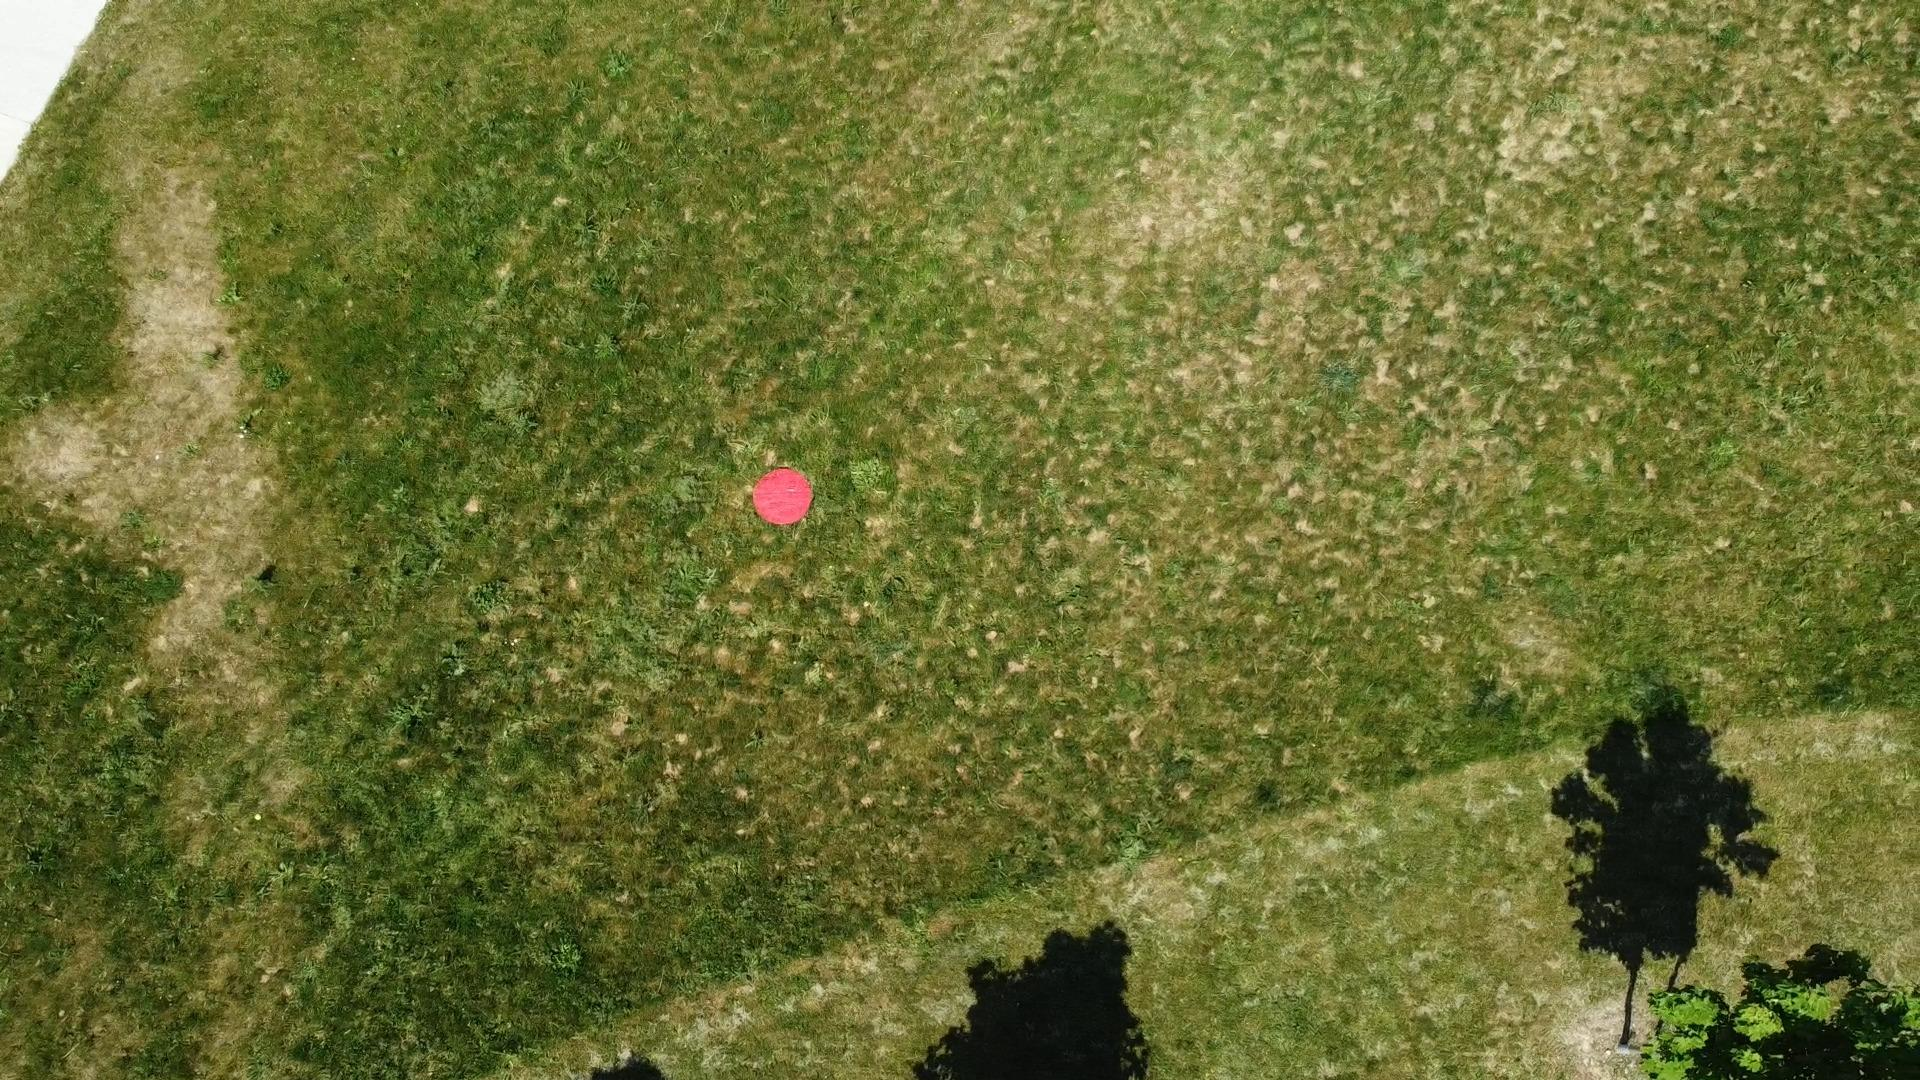Red: (750, 465, 818, 530)
